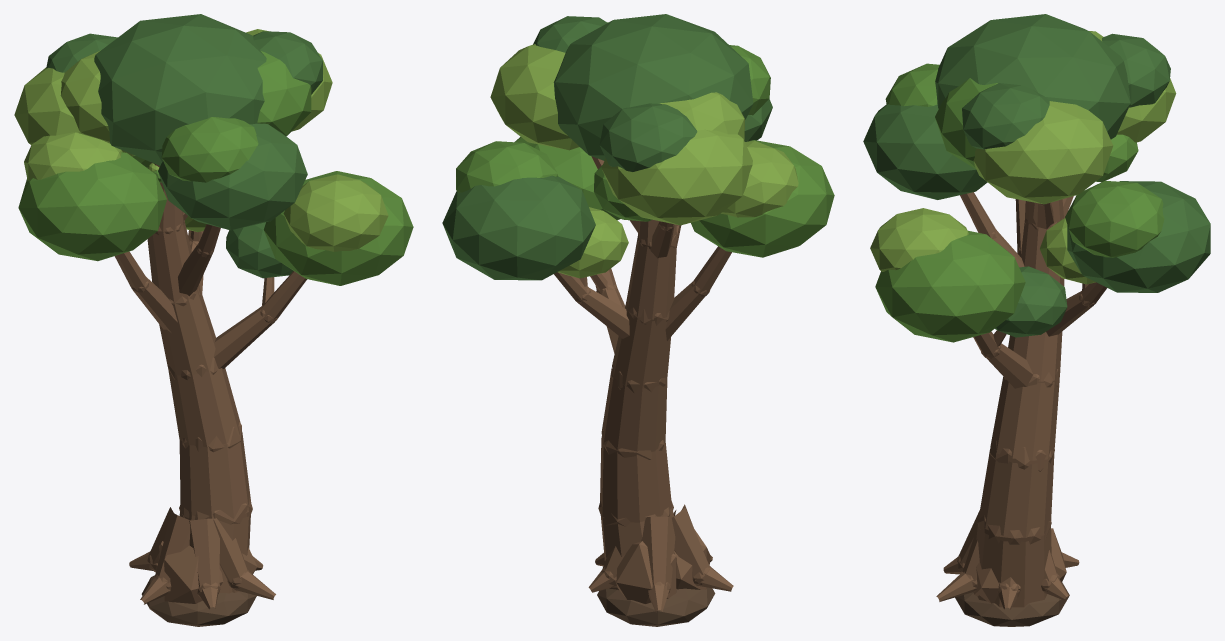
Rendered from tree_05_fylder_kuplen.glb.
The picture shows the model from 3 angles, left to right: view 1: azimuth 30°, elevation 25°; view 2: azimuth 150°, elevation 25°; view 3: azimuth 270°, elevation 25°; orthographic projection. The views are drawn at different scales.
Visible parts, largest first — view 1: OR_Tree_leafC, OR_Tree_bark, OR_Tree_leafA, OR_Tree_leafB, OR_Tree_soil; view 2: OR_Tree_leafC, OR_Tree_bark, OR_Tree_leafB, OR_Tree_leafA, OR_Tree_soil; view 3: OR_Tree_leafC, OR_Tree_bark, OR_Tree_leafA, OR_Tree_leafB, OR_Tree_soil.
Boxes of the visible parts, x1,y1,x2,y2 form: OR_Tree_leafC: (46,14,322,278); OR_Tree_bark: (114,162,307,609); OR_Tree_leafA: (18,51,413,285); OR_Tree_leafB: (14,29,388,251); OR_Tree_soil: (141,575,256,626); OR_Tree_leafC: (442,14,772,280); OR_Tree_bark: (554,156,733,612); OR_Tree_leafB: (490,44,798,278); OR_Tree_leafA: (456,22,834,257); OR_Tree_soil: (597,587,715,626); OR_Tree_leafC: (863,14,1210,337); OR_Tree_bark: (936,192,1106,609); OR_Tree_leafA: (875,63,1164,342); OR_Tree_leafB: (870,31,1176,284); OR_Tree_soil: (955,582,1069,626).
Size of the model in its own units: 7.28 by 12.06 by 6.45.
